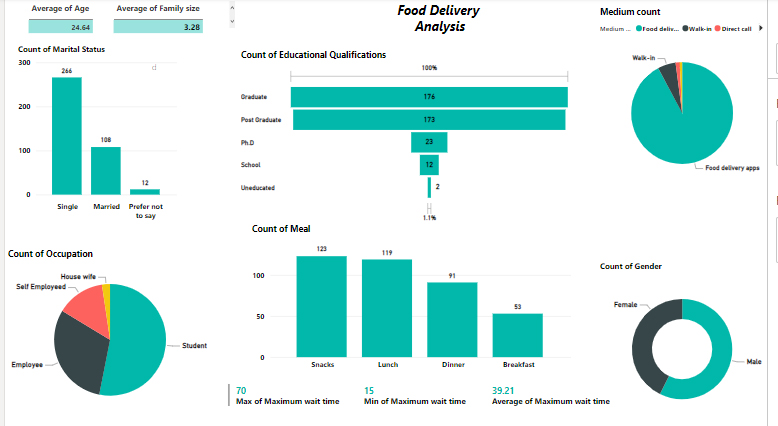

The page's visual inventory and layout, read from the dashboard file:
{"tool":"powerbi","page":{"name":"Page 1","canvas":[1280,720],"ordinal":0},"visuals":[{"type":"funnel","title":"Count of Educational Qualifications","fields":{"Category":["food_delivery.Educational Qualifications"],"Y":["CountNonNull(food_delivery.Educational Qualifications)"]},"box":[391.4,84,564.4,297.3],"z":0},{"type":"pieChart","title":"Count of Occupation","fields":{"Category":["food_delivery.Occupation"],"Y":["CountNonNull(food_delivery.Occupation)"]},"box":[0,418.3,352.8,292.3],"z":1000},{"type":"donutChart","title":"Count of Gender","fields":{"Category":["food_delivery.Gender"],"Y":["CountNonNull(food_delivery.Gender)"]},"box":[994.4,441.8,285.6,278.8],"z":2000},{"type":"tableEx","fields":{"Values":["Avg(food_delivery.Age)"]},"box":[33.6,0,142.8,84],"z":3000},{"type":"tableEx","fields":{"Values":["Avg(food_delivery.Family size)"]},"box":[176.4,0,215,63.8],"z":4000},{"type":"columnChart","title":"Count of Marital Status ","fields":{"Category":["food_delivery.Marital Status"],"Y":["CountNonNull(food_delivery.Marital Status)"]},"box":[16.8,77.3,277.2,304],"z":5000},{"type":"multiRowCard","fields":{"Values":["Max(food_delivery.Maximum wait time)","Min(food_delivery.Maximum wait time)1","Avg(food_delivery.Maximum wait time)2"]},"box":[369.6,643.4,668.6,77.3],"z":6000},{"type":"pieChart","title":"Medium count","fields":{"Y":["CountNonNull(food_delivery.Medium (P1))"],"Category":["food_delivery.Medium (P1)"]},"box":[994.4,11.8,285.6,315.8],"z":7000},{"type":"columnChart","title":"Count of Meal","fields":{"Category":["food_delivery.Meal(P1)"],"Y":["CountNonNull(food_delivery.Meal(P1))"]},"box":[409.9,376.3,545.9,257],"z":8000},{"type":"textbox","box":[100,100,300,300],"z":8001},{"type":"textbox","box":[609.8,0,241.9,84],"z":8002}]}

Visuals, with their boxes in screenshot pixels (x1, y1, x2, y2), scaled from the page's 1280x720 canvas onto the 778x426 screenshot:
"Count of Educational Qualifications" funnel: bbox=[238, 50, 581, 226]
"Count of Occupation" pieChart: bbox=[0, 247, 214, 420]
"Count of Gender" donutChart: bbox=[604, 261, 777, 425]
tableEx - Avg(food_delivery.Age): bbox=[20, 0, 107, 50]
tableEx - Avg(food_delivery.Family size): bbox=[107, 0, 238, 38]
"Count of Marital Status " columnChart: bbox=[10, 46, 179, 226]
multiRowCard - Max(food_delivery.Maximum wait time) x Min(food_delivery.Maximum wait time)1: bbox=[225, 381, 631, 425]
"Medium count" pieChart: bbox=[604, 7, 777, 194]
"Count of Meal" columnChart: bbox=[249, 223, 581, 375]
textbox: bbox=[61, 59, 243, 237]
textbox: bbox=[371, 0, 518, 50]
